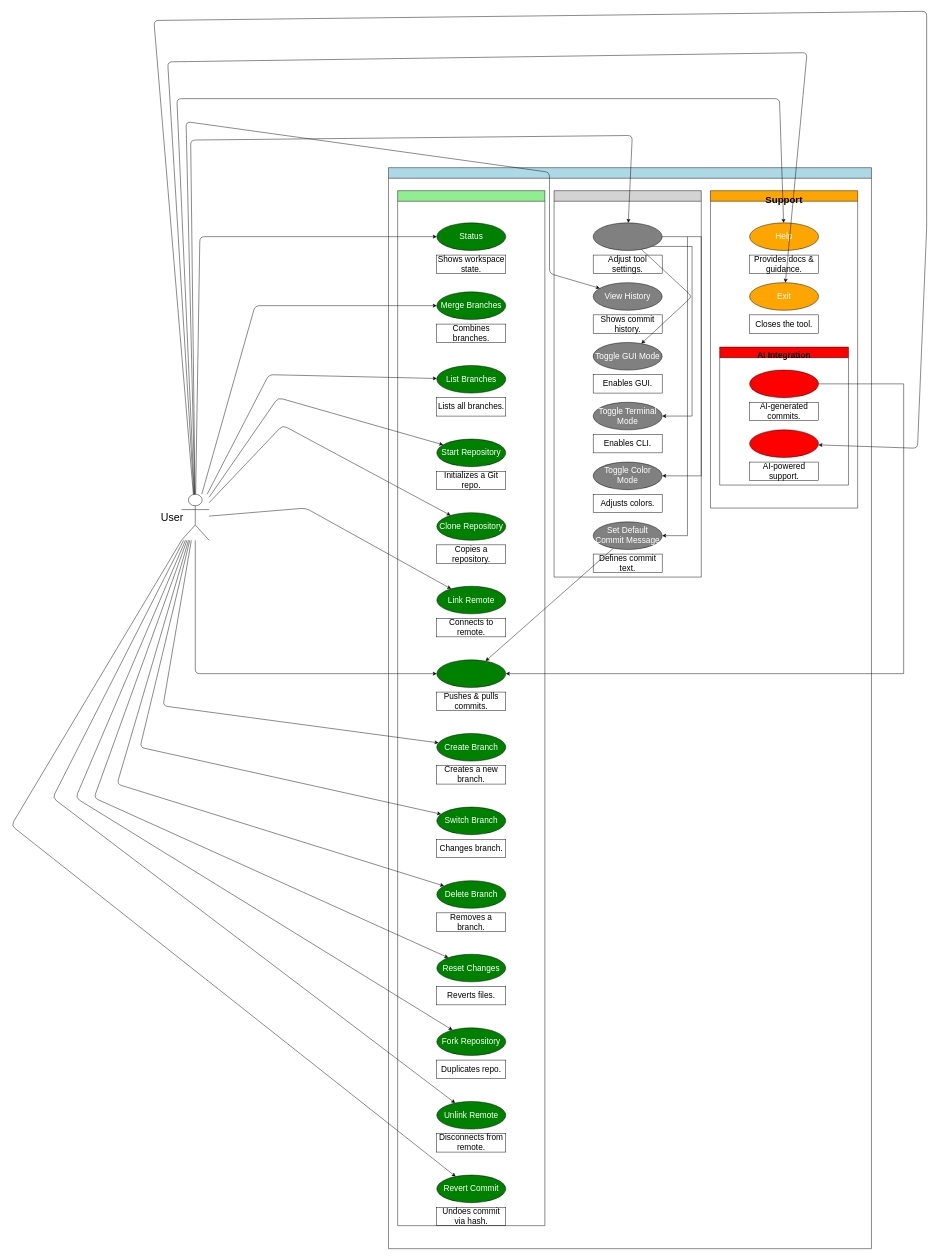
Image size: 938x1257. Some labels were removed from this diagram. Here are the shapes that lost their labels. From the top down, the box of each, then its label:
(593, 222, 662, 250): Configure Settings
(554, 190, 701, 577): Settings & Maintenance
(749, 370, 819, 398): Sync Changes with AI
(749, 429, 819, 457): AI Assistant
(436, 659, 506, 687): Sync Changes
(397, 190, 545, 1226): Repository Management
(388, 167, 871, 1249): GitFlow
